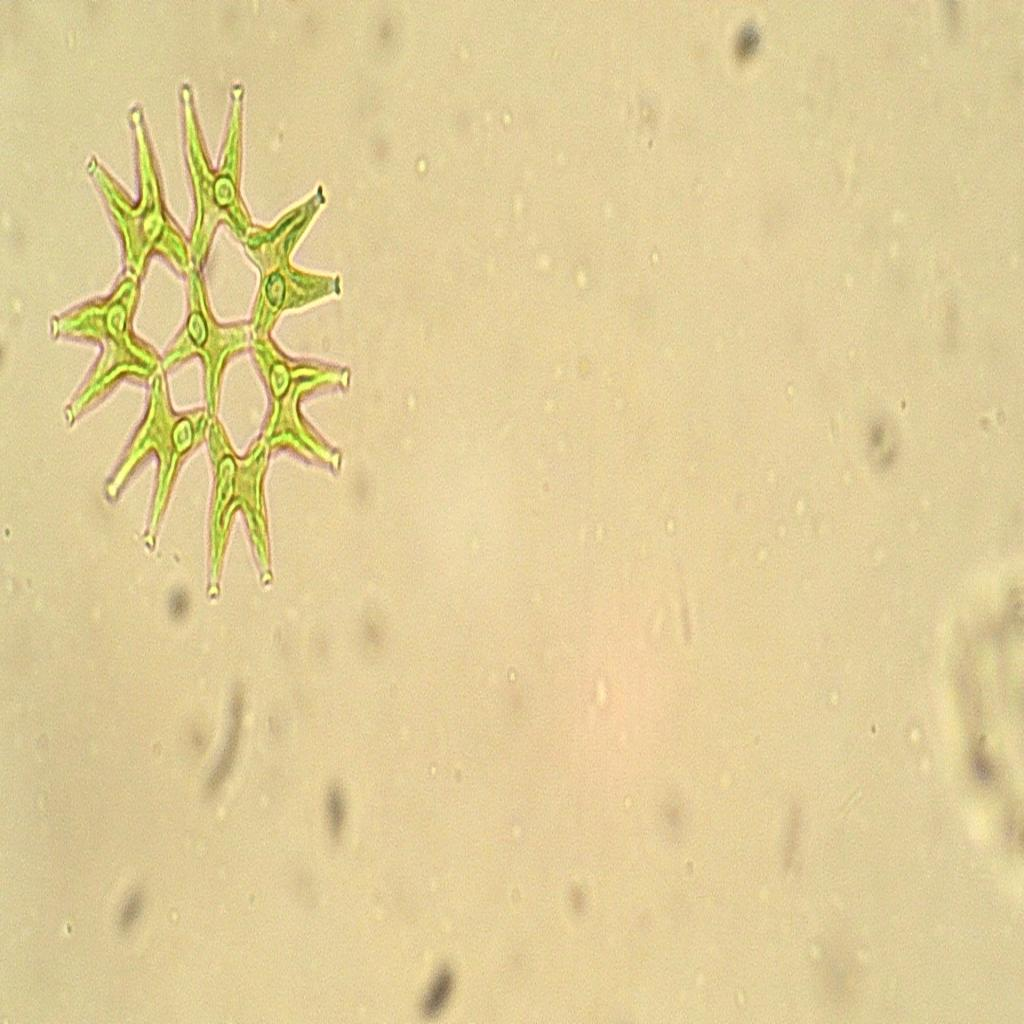Pediastrum_CTH: (43, 65, 367, 613)
